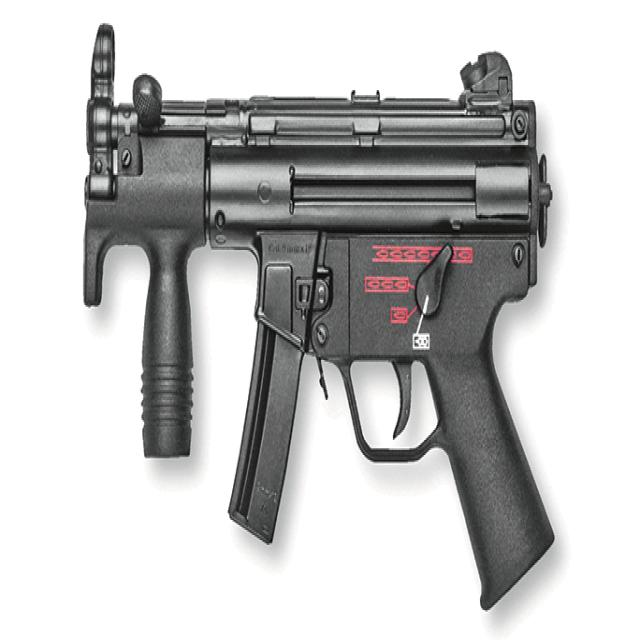SMG: (82, 23, 556, 613)
